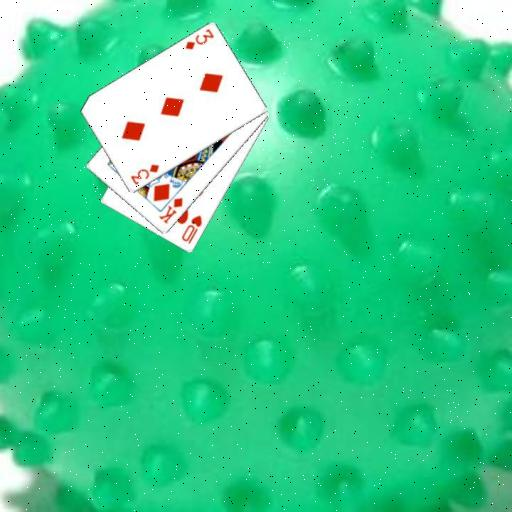10H: (179, 212, 204, 246)
3D: (127, 161, 161, 187), (182, 26, 216, 52)
KD: (156, 195, 184, 225)
